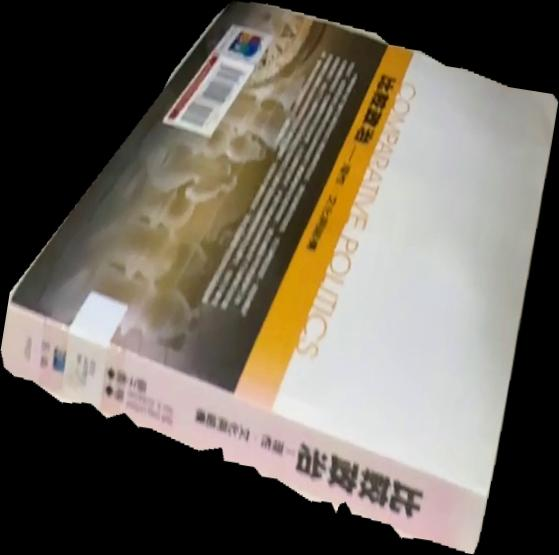flat: (1, 1, 559, 555)
